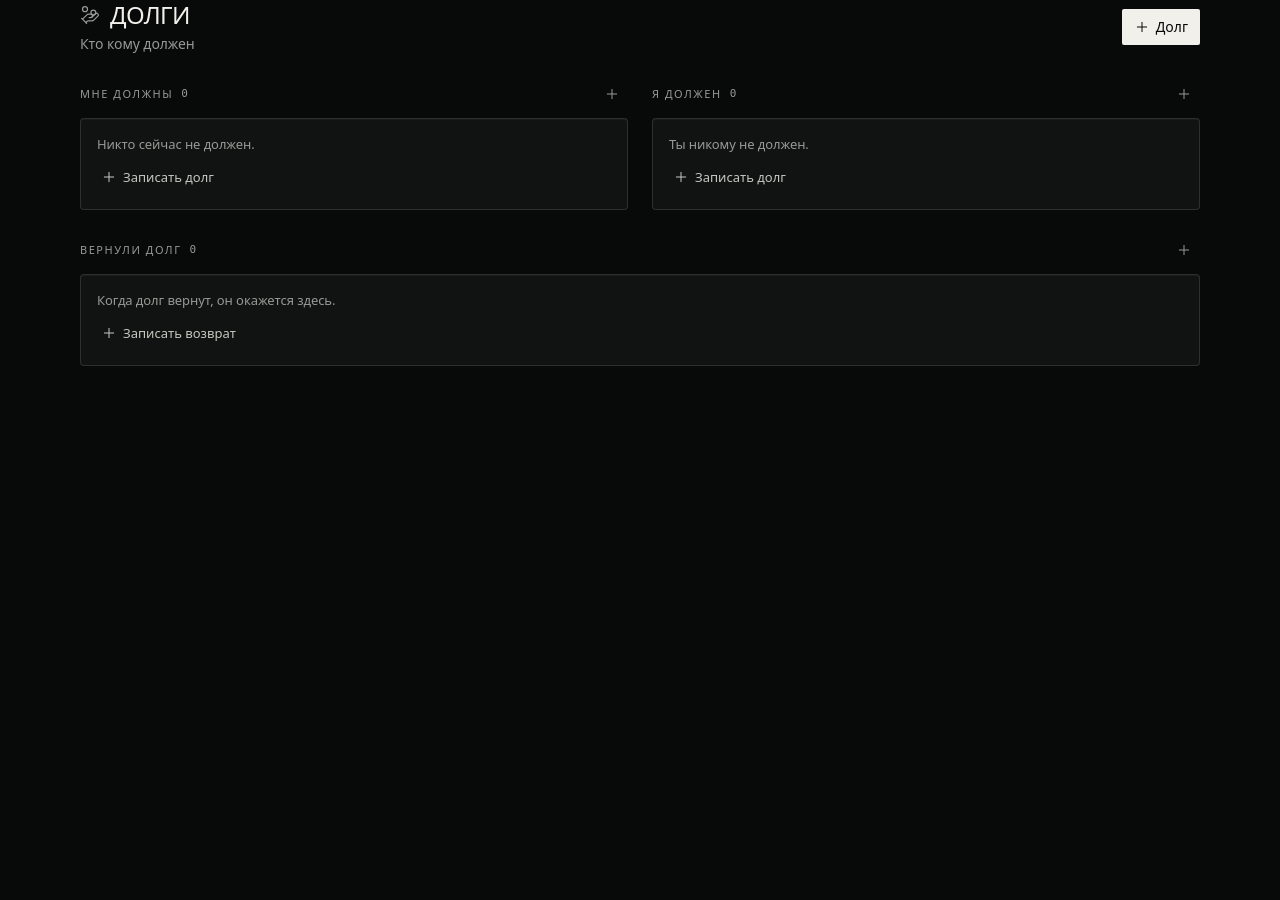
DebtsPage › refuses a sum it cannot read and keeps the dialog open
The width and height of the screenshot is (1280, 900).
Click the button named "Добавить: мне должны" at [612, 94], box [596, 78, 628, 110]
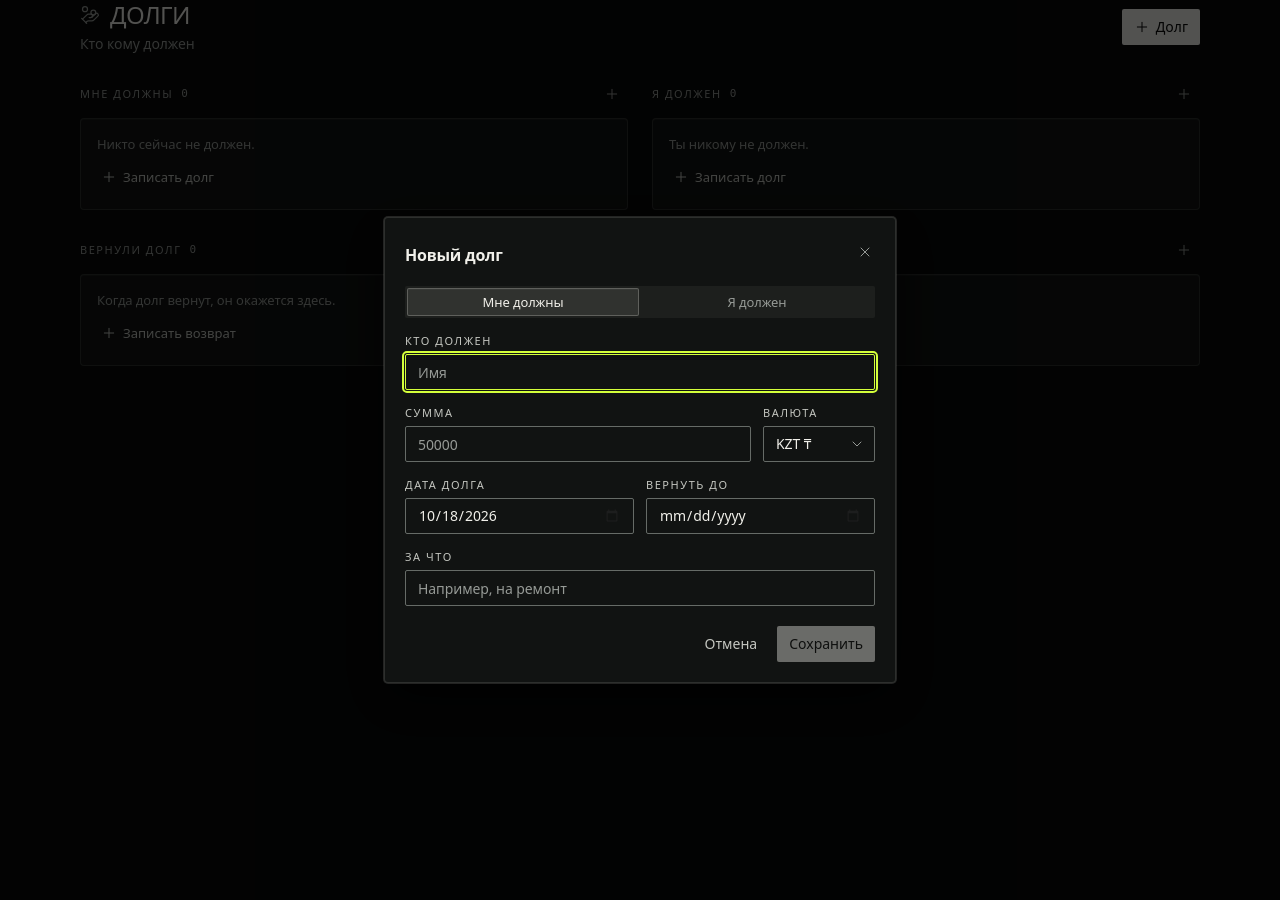
Type "Асхат" into the field labelled "Кто должен" at [640, 372], box [405, 354, 875, 390]
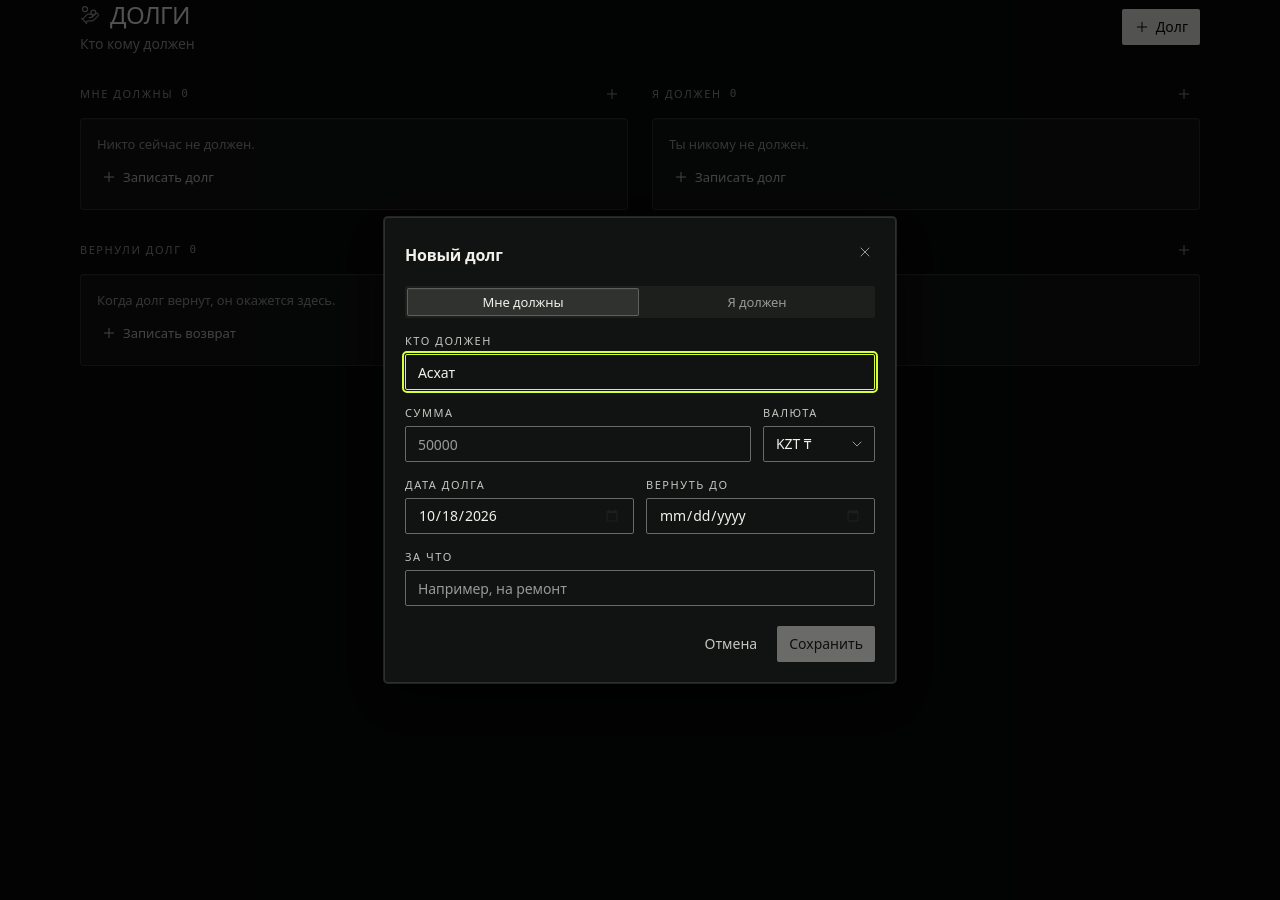
Type "много" into the field labelled "Сумма" at [578, 444], box [405, 426, 751, 462]
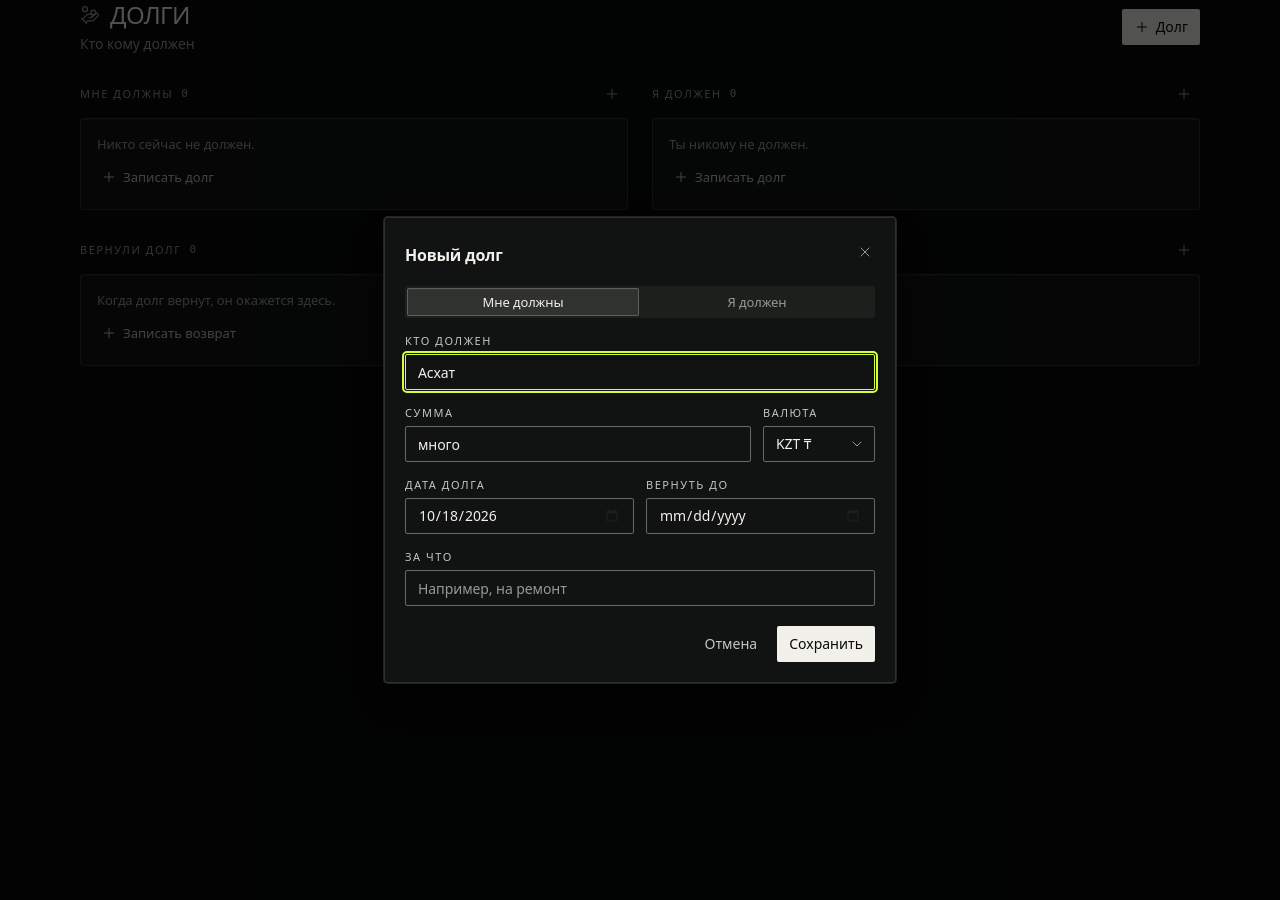
Click the button "Сохранить" at [826, 644], box [777, 626, 875, 662]
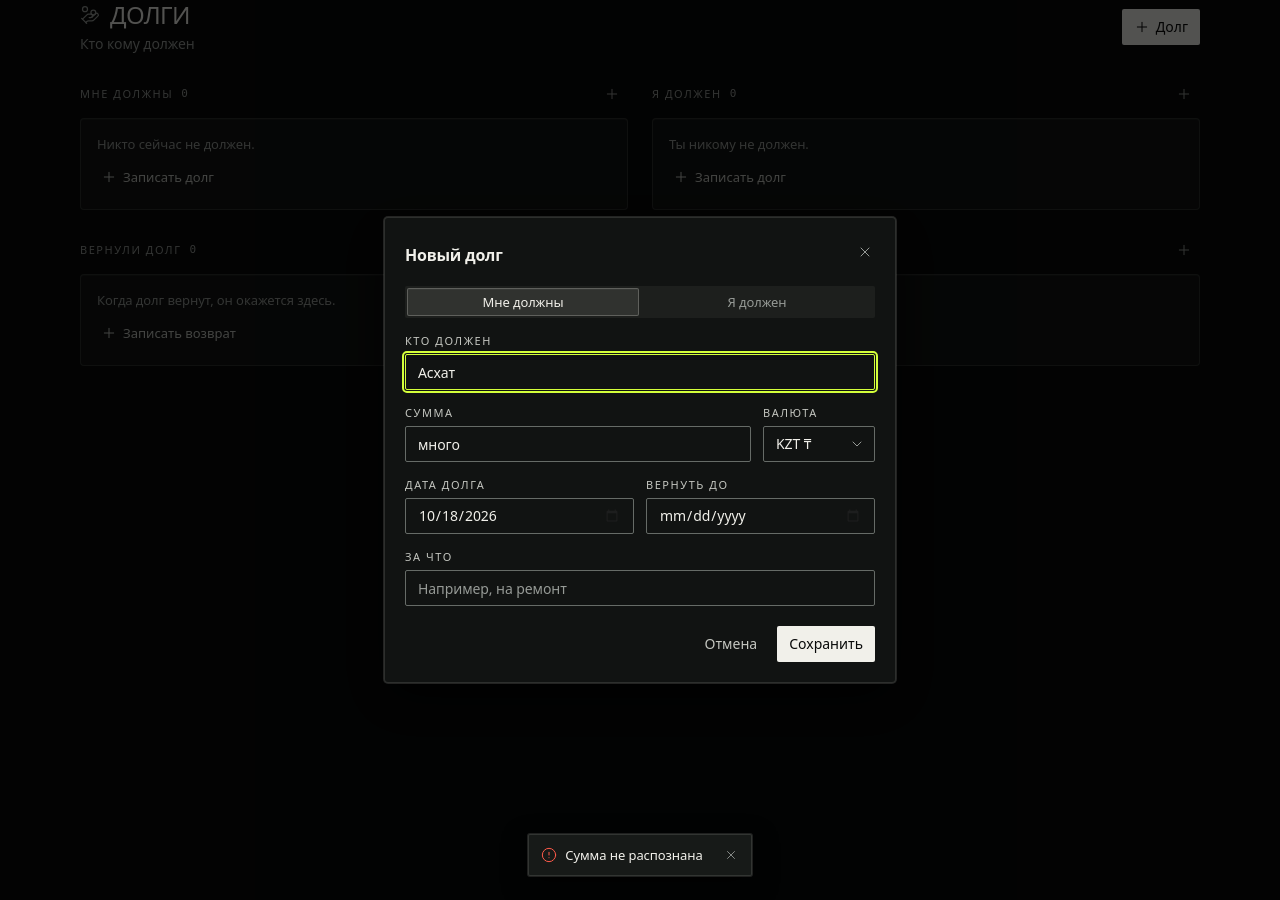
expect the dialog "Новый долг" is shown: met, box [384, 217, 896, 683]
expect the text "Сумма не распознана" is shown: met, box [565, 842, 707, 868]
